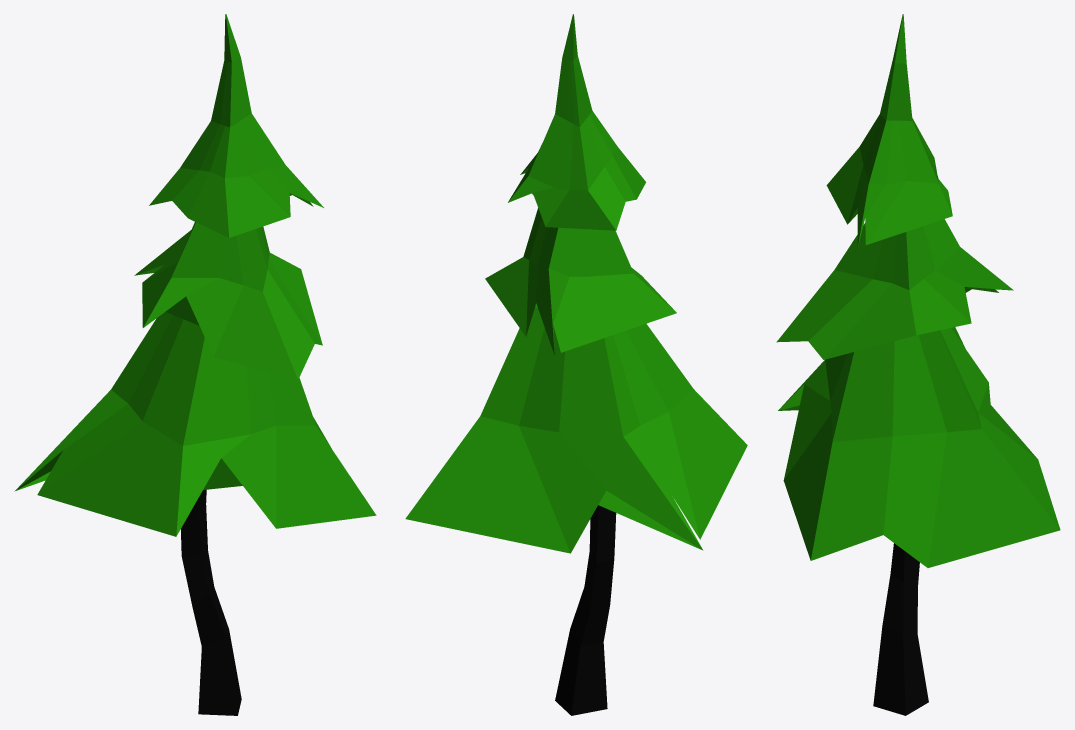
Rendered from PineTree03_EM.fbx.
3 views of the same model, side by side, from view 1: azimuth 30°, elevation 25°; view 2: azimuth 150°, elevation 25°; view 3: azimuth 270°, elevation 25° (orthographic).
Visible parts, largest first — view 1: PineTree03_EM; view 2: PineTree03_EM; view 3: PineTree03_EM.
Boxes of the visible parts, x1=… form: PineTree03_EM: x1=14, y1=14, x2=376, y2=715; PineTree03_EM: x1=405, y1=14, x2=747, y2=715; PineTree03_EM: x1=776, y1=14, x2=1060, y2=715.
Bounding box in the file's own units: 248 × 586 × 218.
